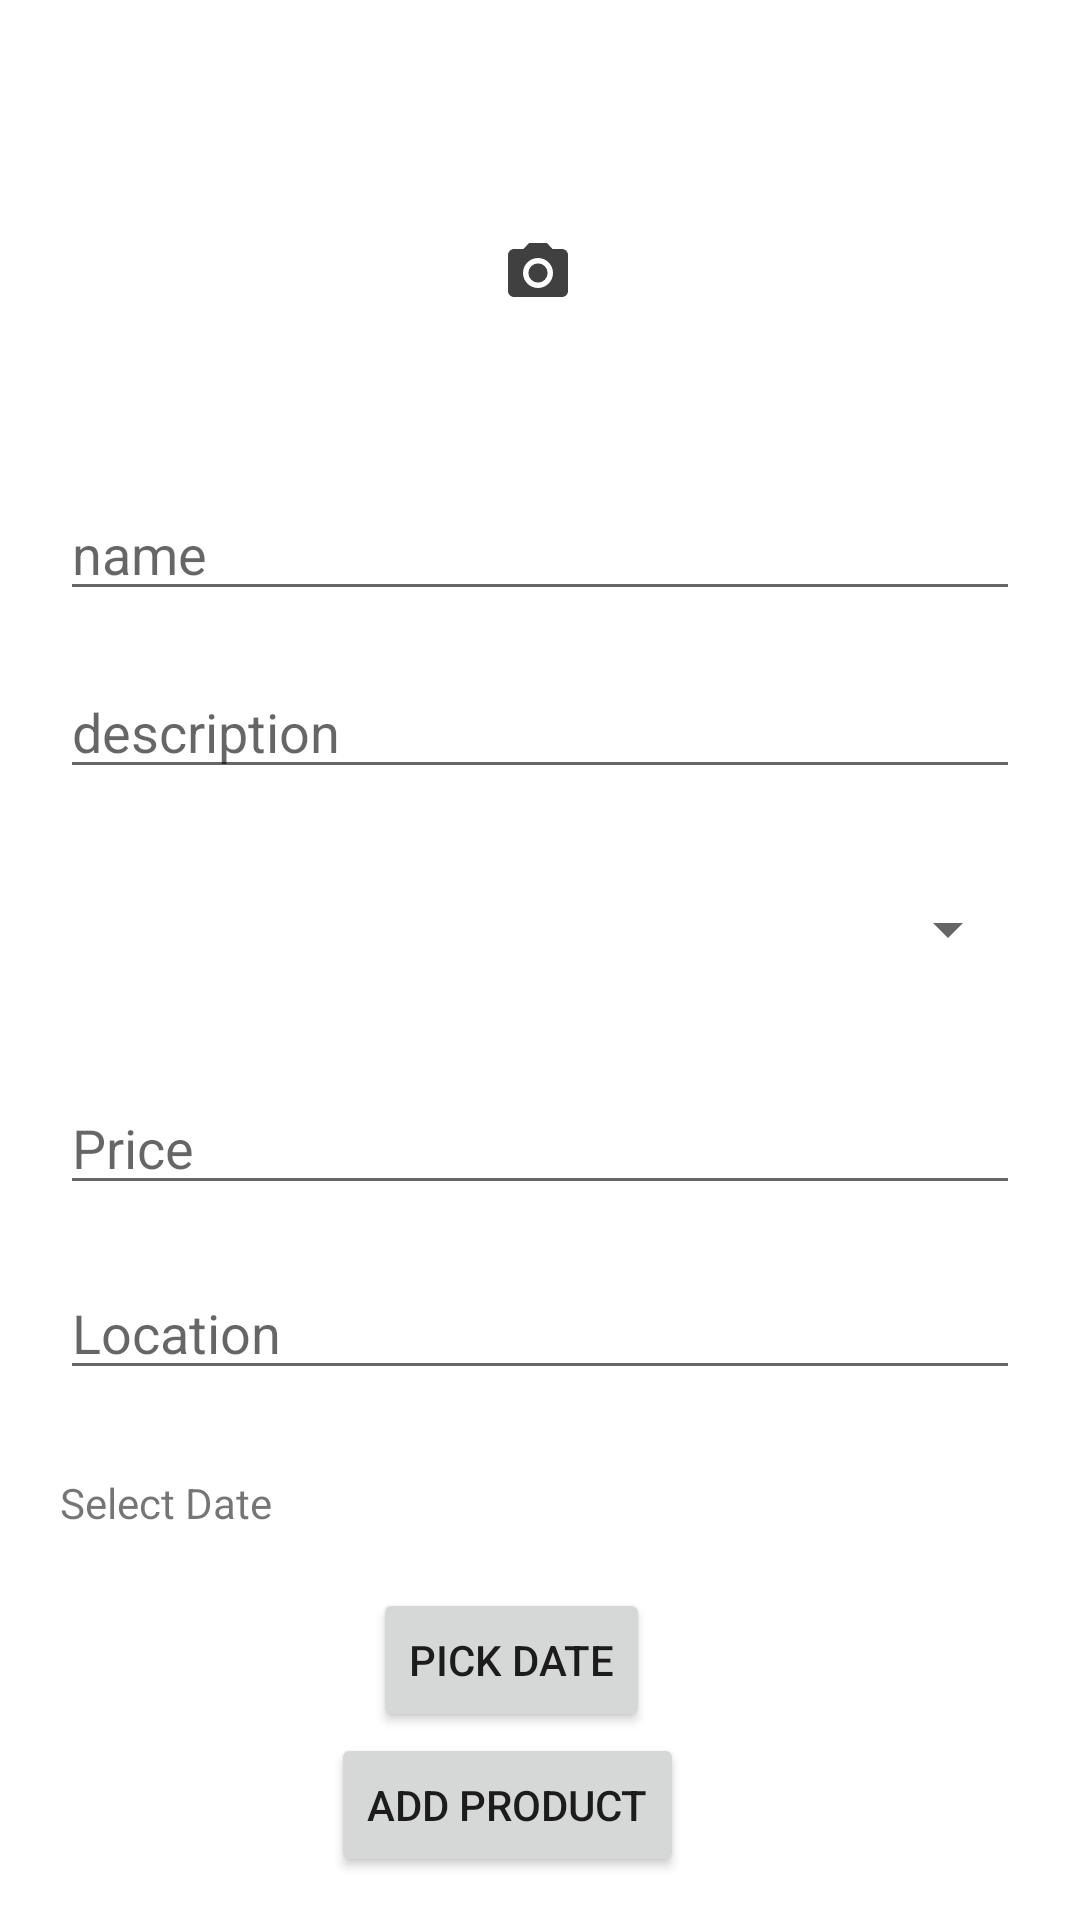

Where icons sit on this 1080px×1920px app screen, as (x1, y1, x2, y2):
camera: (508, 243, 568, 297)
